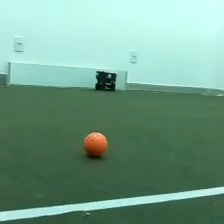ball: (81, 129, 109, 160)
goal: (5, 60, 129, 93)
robot: (92, 67, 117, 92)
